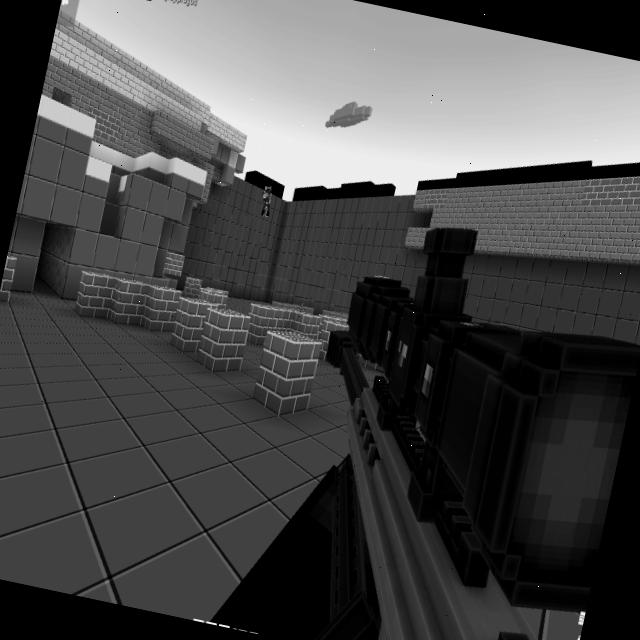Head: (263, 185, 272, 195)
Player: (256, 182, 274, 218)
